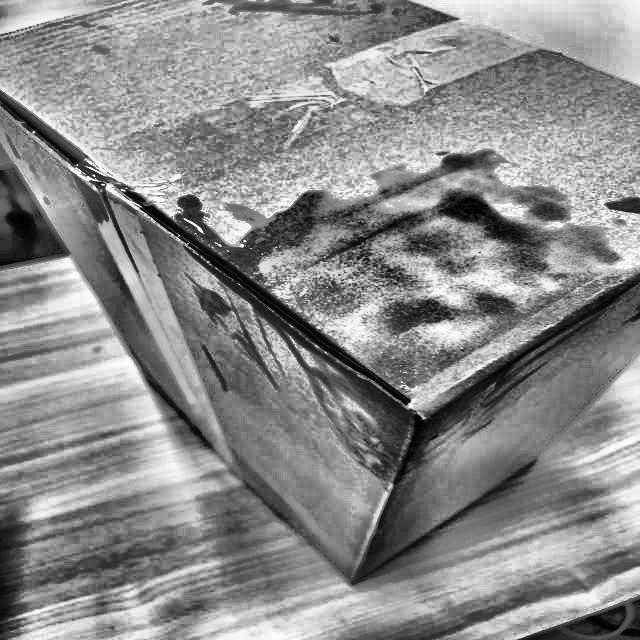box: (1, 0, 639, 584)
hole: (493, 565, 638, 640)
wet: (192, 153, 637, 482)
